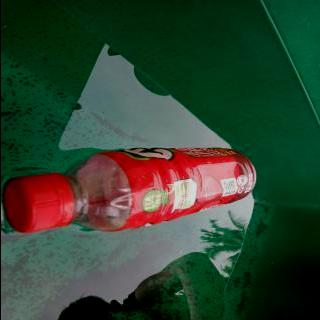bottle: (0, 146, 256, 234)
